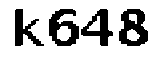4: (82, 8, 114, 48)
6: (46, 6, 81, 49)
8: (116, 5, 150, 50)
k: (9, 5, 43, 50)
